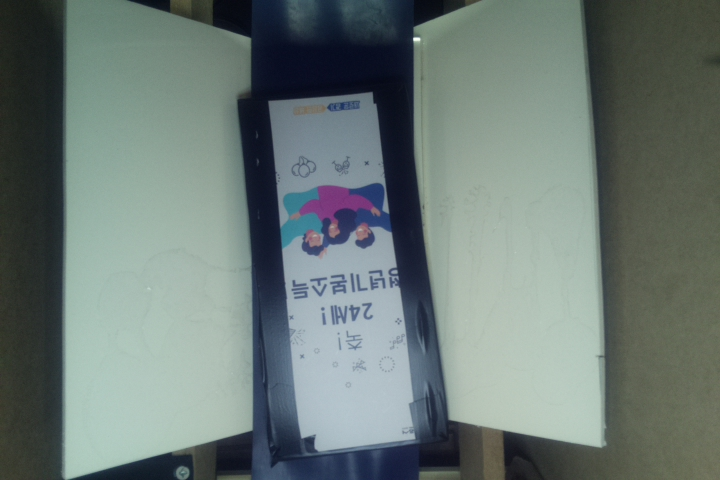book: (231, 79, 451, 461)
